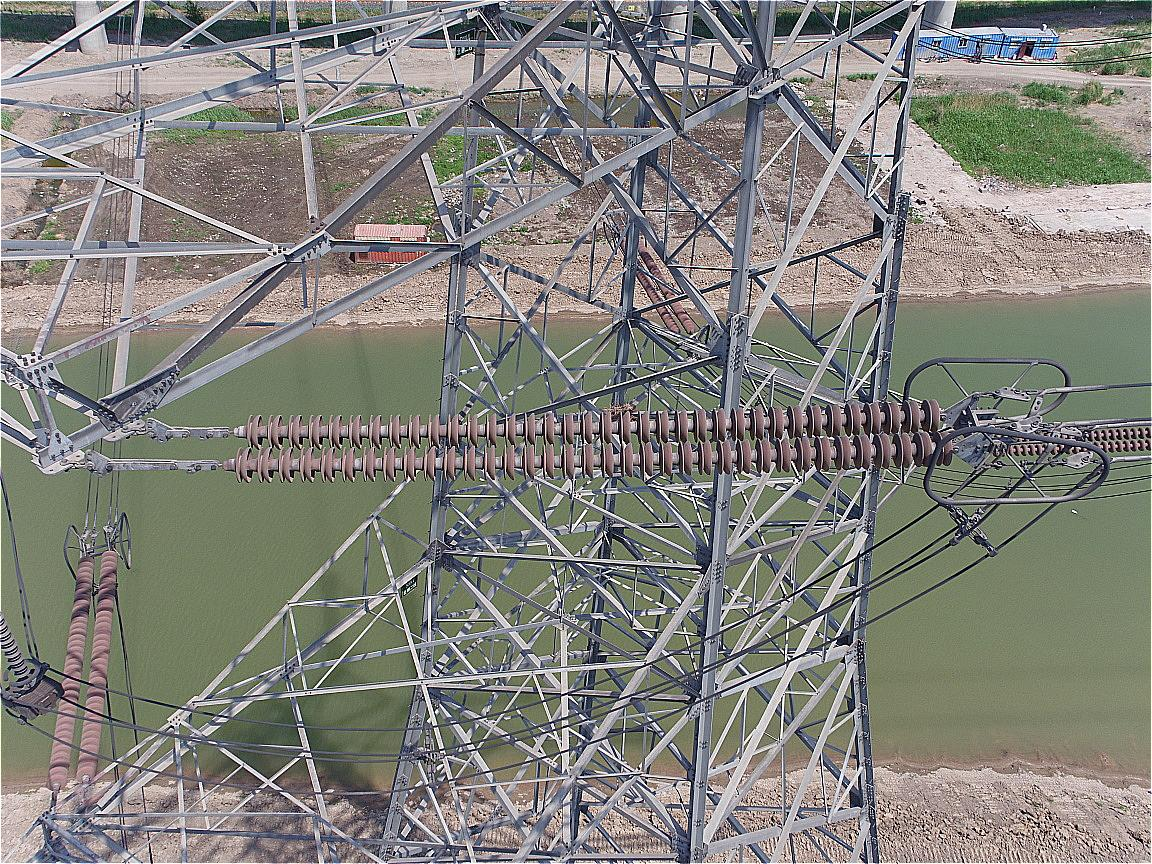insultor1: (48, 550, 122, 789)
insultor2: (234, 400, 953, 482)
